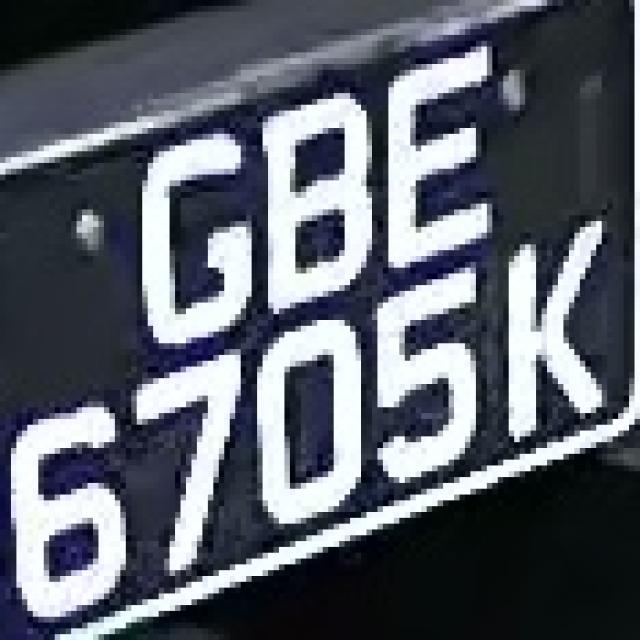0: (235, 314, 378, 547)
5: (367, 273, 492, 512)
6: (0, 390, 137, 628)
7: (120, 355, 252, 582)
B: (252, 88, 388, 308)
E: (383, 29, 498, 268)
G: (115, 105, 252, 355)
K: (482, 221, 624, 466)
